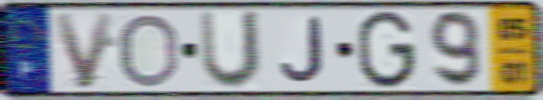9: (425, 9, 485, 90)
G: (356, 8, 418, 92)
J: (277, 15, 327, 85)
O: (116, 11, 181, 90)
U: (196, 9, 265, 92)
V: (49, 9, 118, 91)
